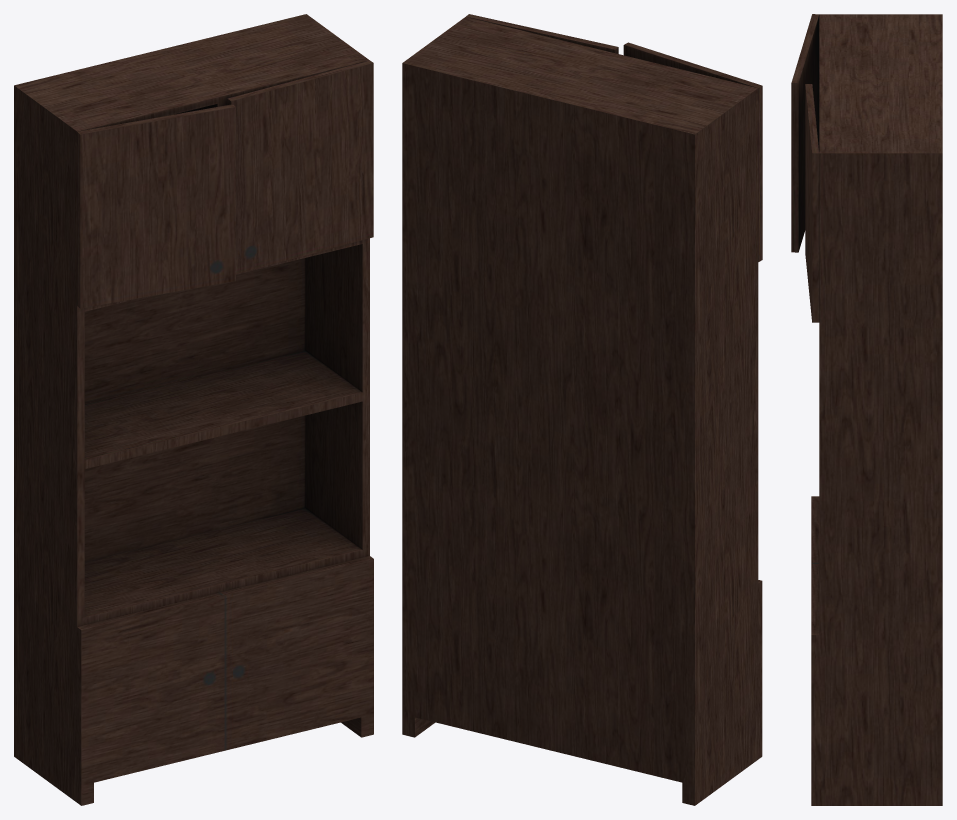
Rendered from SM_Cabinet1.fbx.
3 views of the same model, side by side, from view 1: azimuth 30°, elevation 25°; view 2: azimuth 150°, elevation 25°; view 3: azimuth 270°, elevation 25° (orthographic). The views are drawn at different scales.
Parts seen in each view (by area): view 1: Cabinet1; view 2: Cabinet1; view 3: Cabinet1.
Part boxes in pixels (x1,y1,x2,y2): Cabinet1: [14, 14, 373, 805]; Cabinet1: [402, 14, 762, 805]; Cabinet1: [791, 14, 942, 805].
Bounding box in the file's own units: 161 × 351 × 73.56.
